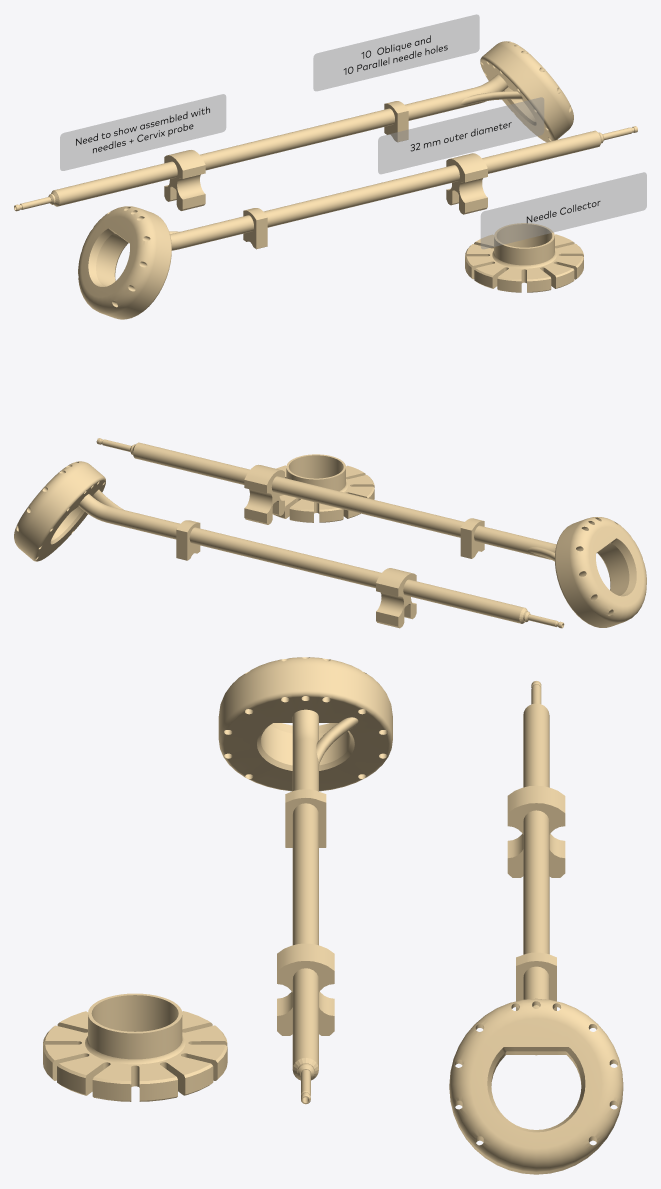
The model's file is USP of the Applicator.glb.
3 renders of one model, top to bottom at view 1: azimuth 30°, elevation 25°; view 2: azimuth 150°, elevation 25°; view 3: azimuth 270°, elevation 25°, orthographic. The views are drawn at different scales.
Parts seen in each view (by area): view 1: pCylinder83, pCylinder97_1, pCylinder97, pCylinder103, pPlane4, pPlane3, pPlane6, pPlane5, pCylinder83_1, pCube19_1, pCube19, pCube20 (+2 smaller); view 2: pCylinder83, pCylinder97_1, pCylinder97, pCylinder83_1, pCylinder103, pCube19_1, pCube19, pCube20, pCube20_1; view 3: pCylinder83_1, pCylinder83, pCylinder103, pCylinder97, pCylinder97_1, pCube19_1, pCube19, pCube20, pCube20_1.
Boxes of the visible parts, x1,y1,x2,y2 form: pCylinder83: (78,206,171,319); pCylinder97_1: (51,74,508,206); pCylinder97: (170,130,601,250); pCylinder103: (465,223,583,292); pPlane4: (313,14,479,91); pPlane3: (480,172,646,249); pPlane6: (378,97,544,174); pPlane5: (60,94,226,170); pCylinder83_1: (480,41,573,142); pCube19_1: (164,150,205,210); pCube19: (446,153,487,214); pCube20: (243,208,267,249); pCylinder83: (555,517,646,627); pCylinder97_1: (78,494,527,623); pCylinder97: (132,442,556,559); pCylinder83_1: (14,461,105,561); pCylinder103: (273,454,374,522); pCube19_1: (376,568,416,628); pCube19: (244,464,284,524); pCube20: (460,518,484,558); pCube20_1: (176,520,200,560); pCylinder83_1: (449,998,623,1174); pCylinder83: (218,657,392,791); pCylinder103: (43,993,227,1101); pCylinder97: (292,709,318,1080); pCylinder97_1: (523,703,549,1055); pCube19_1: (507,785,565,877); pCube19: (277,943,334,1035); pCube20: (285,789,326,847); pCube20_1: (516,952,556,1010).
Size of the model in its own units: 0.2391 by 0.0438 by 0.1541.
17 materials, 4 textured.
